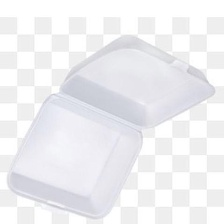foam_box: (0, 28, 222, 224)
